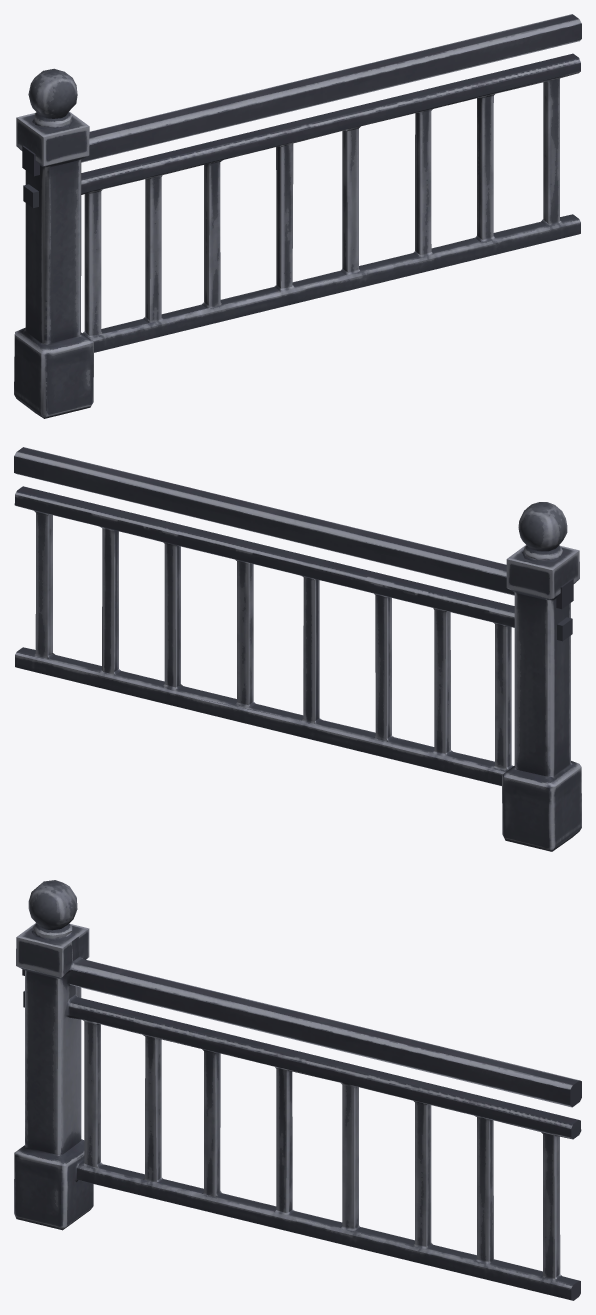
Rendered from railing.glb.
The picture shows the model from 3 angles, top to bottom: view 1: azimuth 30°, elevation 25°; view 2: azimuth 150°, elevation 25°; view 3: azimuth 330°, elevation 25°; orthographic projection.
Parts seen in each view (by area): view 1: body; view 2: body; view 3: body.
Part boxes in pixels (bbox=[...]): body: bbox=[14, 14, 581, 418]; body: bbox=[14, 447, 581, 851]; body: bbox=[14, 880, 581, 1300].
Size of the model in its own units: 2 by 1.16 by 0.2019.
1 material, 1 textured.
